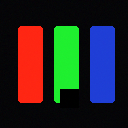1 square: (60, 89, 78, 107)
